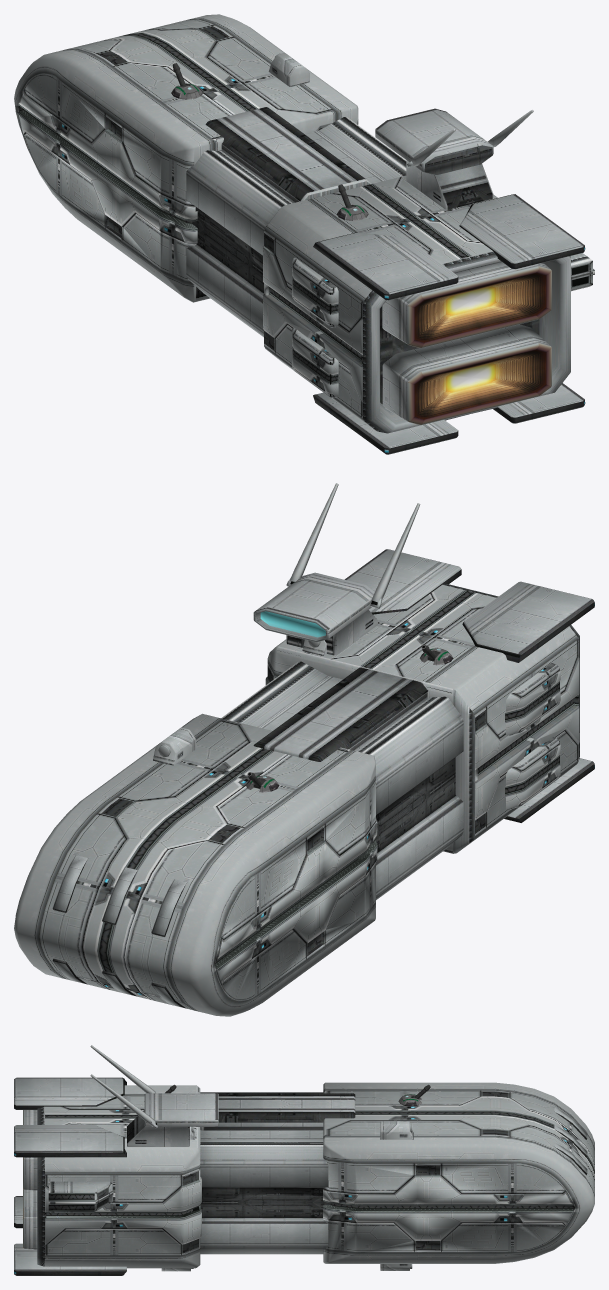
Rendered from transport.glb.
The picture shows the model from 3 angles, top to bottom: view 1: azimuth 30°, elevation 25°; view 2: azimuth 150°, elevation 25°; view 3: azimuth 270°, elevation 25°; orthographic projection. The views are drawn at different scales.
Visible parts, largest first — view 1: detail-0; view 2: detail-0; view 3: detail-0.
Boxes of the visible parts, x1,y1,x2,y2 form: detail-0: [14, 14, 594, 454]; detail-0: [14, 483, 594, 1016]; detail-0: [14, 1045, 594, 1275].
Bounding box in the file's own units: 4.51 × 4.99 × 12.13.
Materials: 2 (2 with a texture image).
